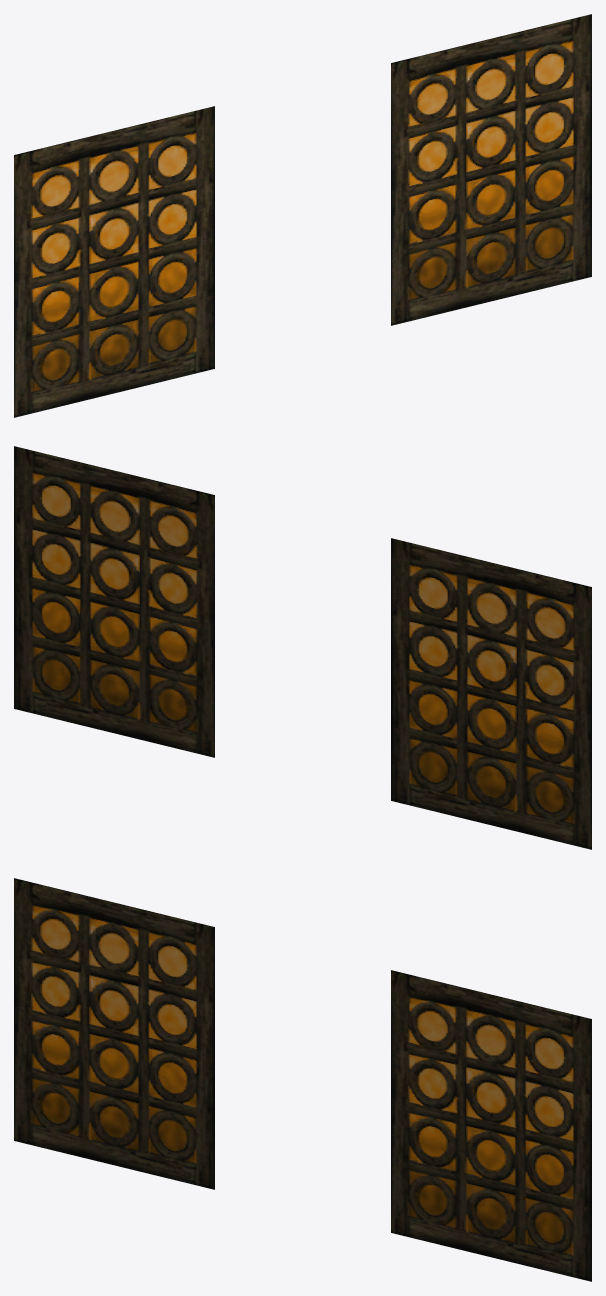
Rendered from LAKETOWN_EXTERIOR_PS_LT_WINDOWS2499.fbx.
3 renders of one model, top to bottom at view 1: azimuth 30°, elevation 25°; view 2: azimuth 150°, elevation 25°; view 3: azimuth 330°, elevation 25°, orthographic.
Parts seen in each view (by area): view 1: LAKETOWN_EXTERIOR_PS_LT_WINDOWS2499; view 2: LAKETOWN_EXTERIOR_PS_LT_WINDOWS2499; view 3: LAKETOWN_EXTERIOR_PS_LT_WINDOWS2499.
Boxes of the visible parts, bbox=[...] form: LAKETOWN_EXTERIOR_PS_LT_WINDOWS2499: bbox=[14, 14, 591, 417]; LAKETOWN_EXTERIOR_PS_LT_WINDOWS2499: bbox=[14, 446, 591, 849]; LAKETOWN_EXTERIOR_PS_LT_WINDOWS2499: bbox=[14, 878, 591, 1281].
Size of the model in its own units: 33709 by 14646 by 0.0268.
Materials: 1 (1 with a texture image).
